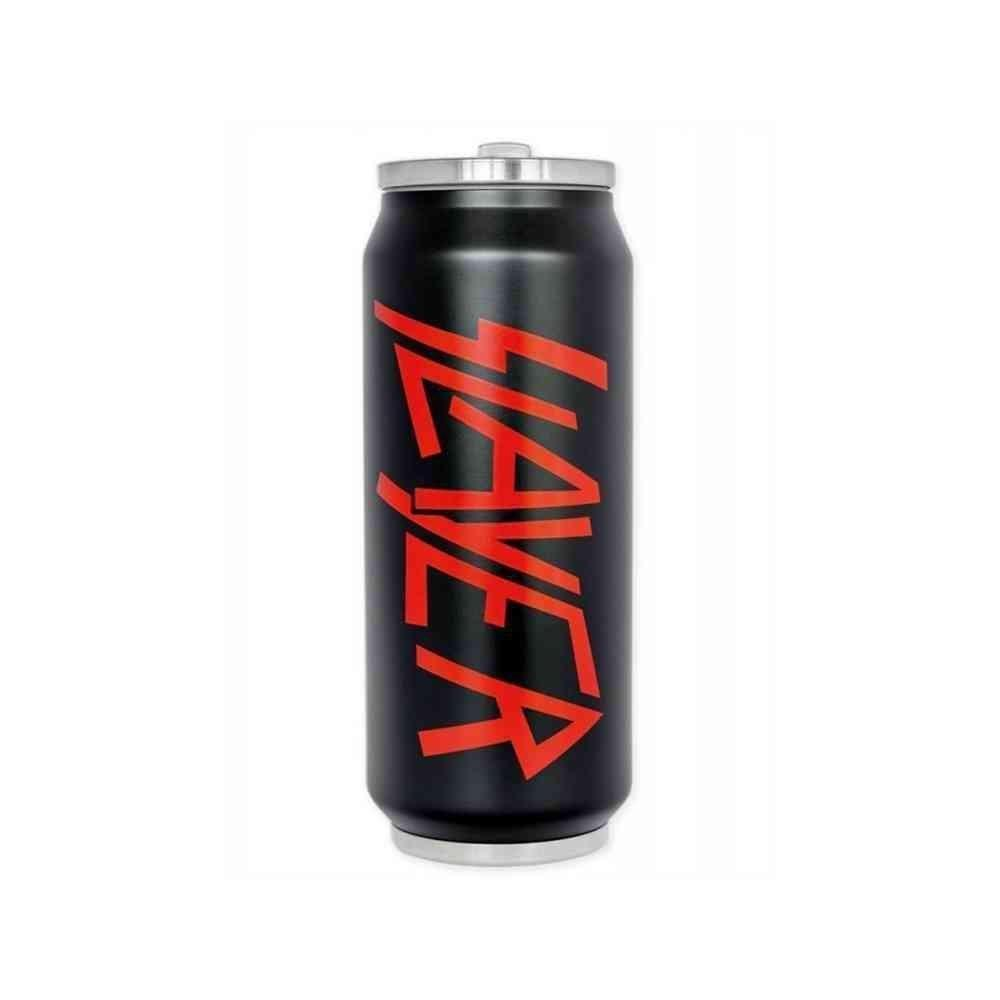tin can: (359, 139, 640, 866)
